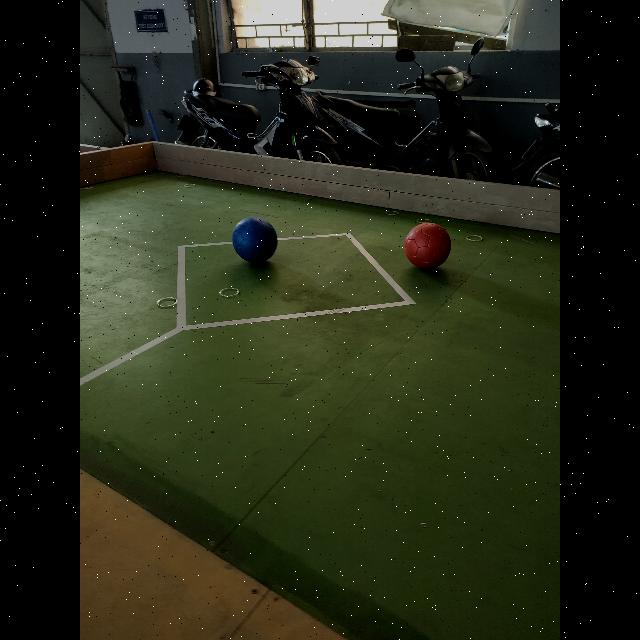B: (232, 218, 278, 262)
R: (404, 222, 452, 268)
